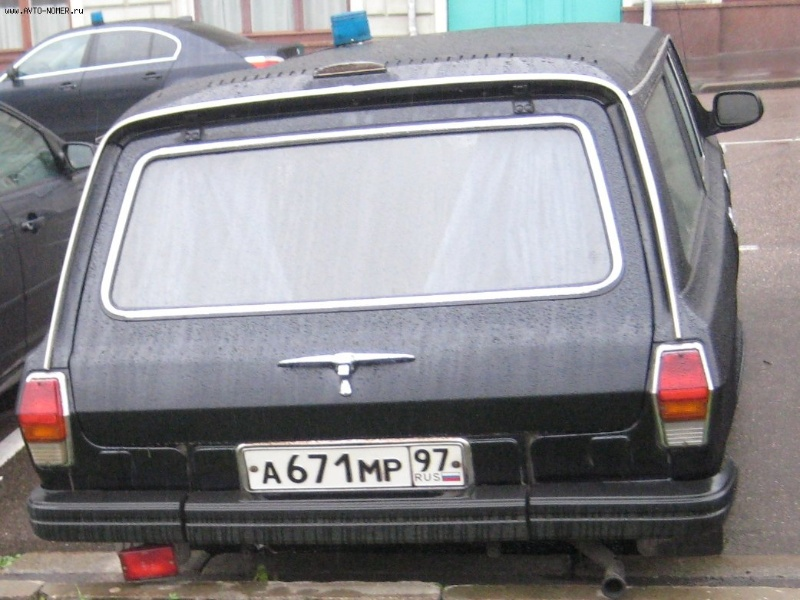car: (16, 23, 766, 565), (1, 20, 304, 141), (1, 101, 97, 397)
plate: (245, 442, 464, 488)
